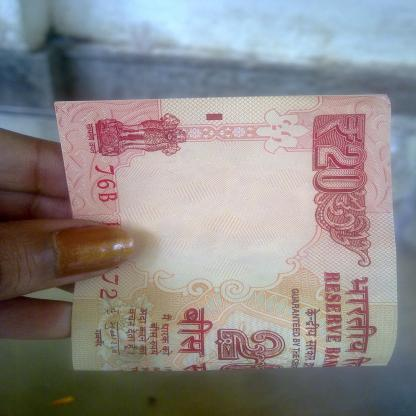Old20Front: (65, 109, 382, 374)
